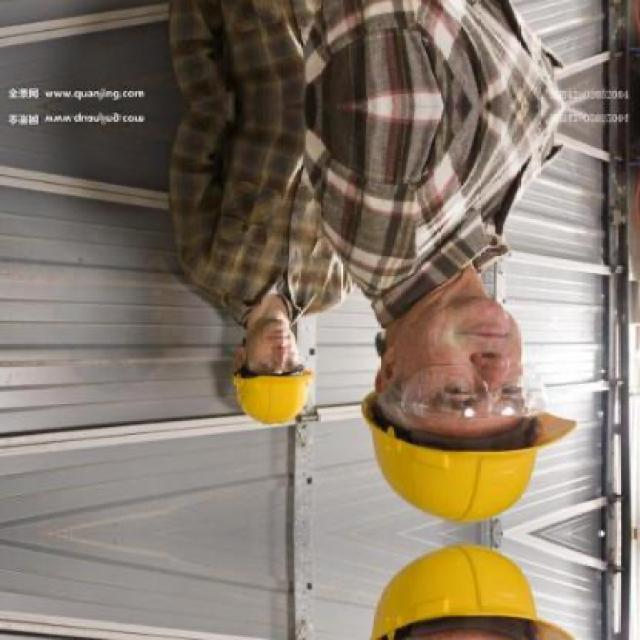con casco: (236, 320, 364, 444), (382, 429, 546, 524)
